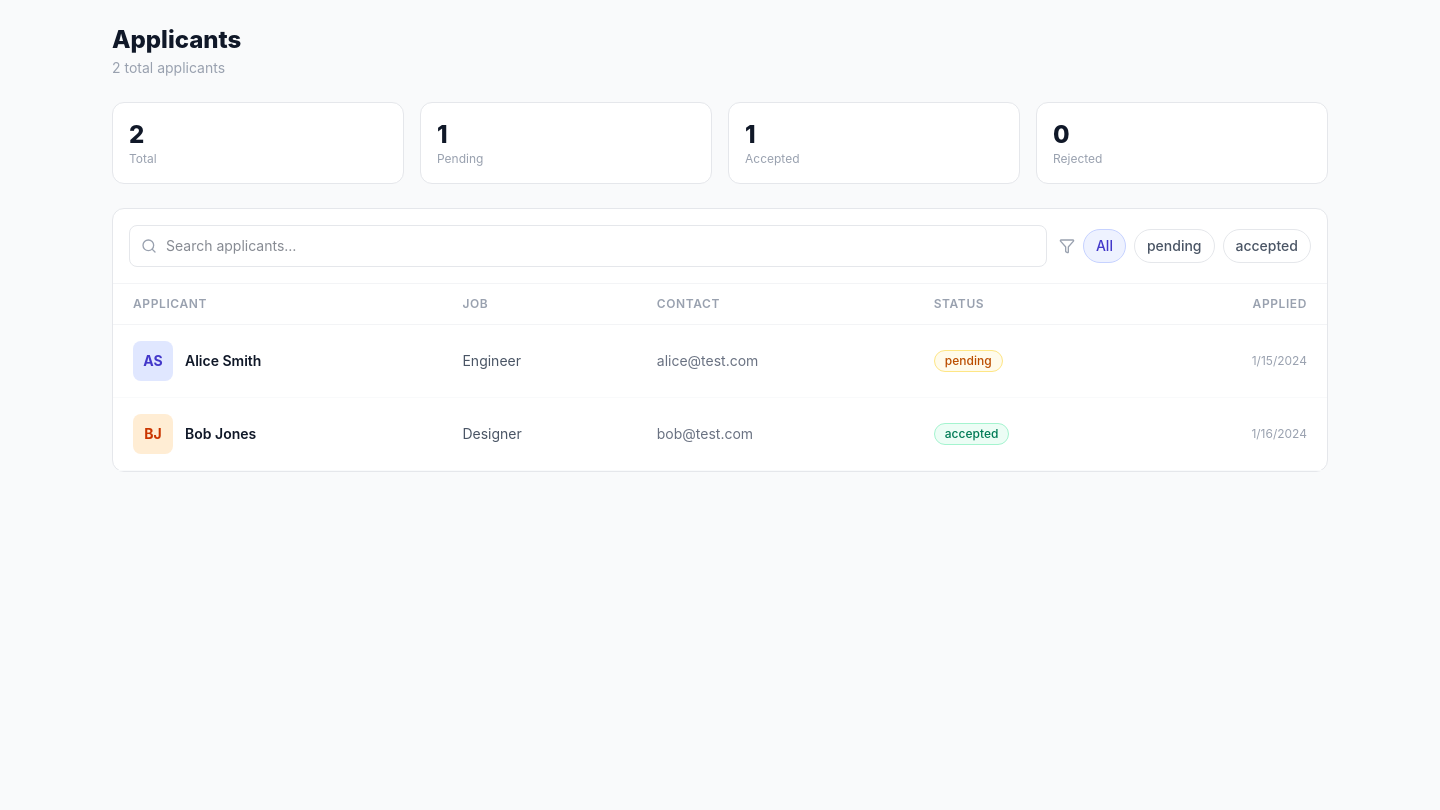
Applicants Page › opens detail drawer on row click
Click the text "Alice Smith": (223, 361) [185,351,261,371]
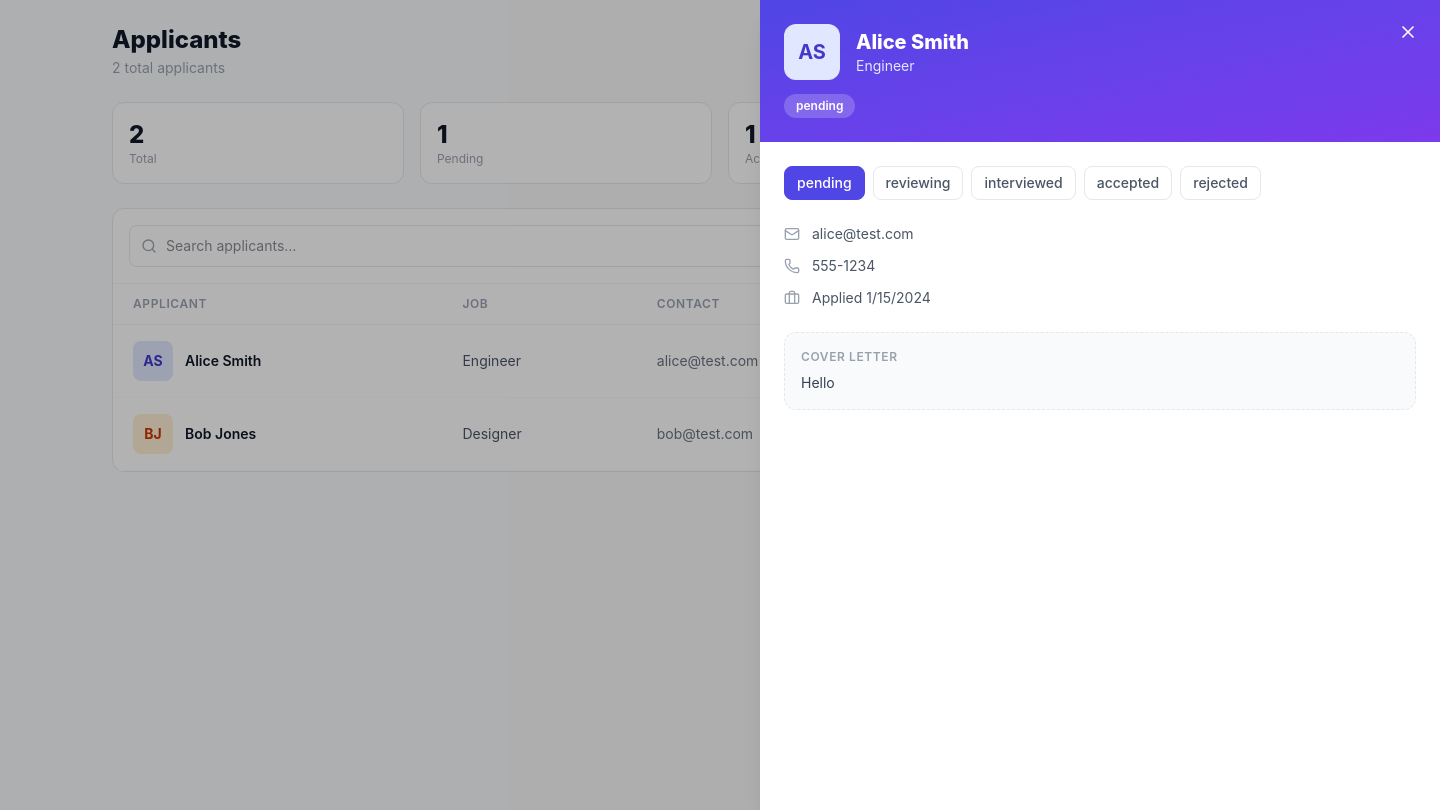
Expected: the heading "Cover Letter" is shown, [801,349,898,364]
Expected: the text "Hello" is shown, [801,374,835,391]
